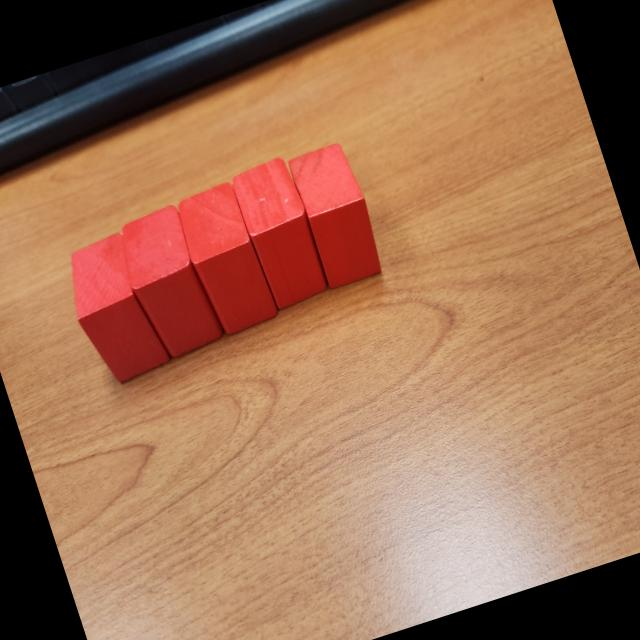red: (111, 200, 228, 364), (54, 228, 172, 390), (171, 179, 283, 342), (228, 153, 334, 314), (285, 138, 389, 292)
